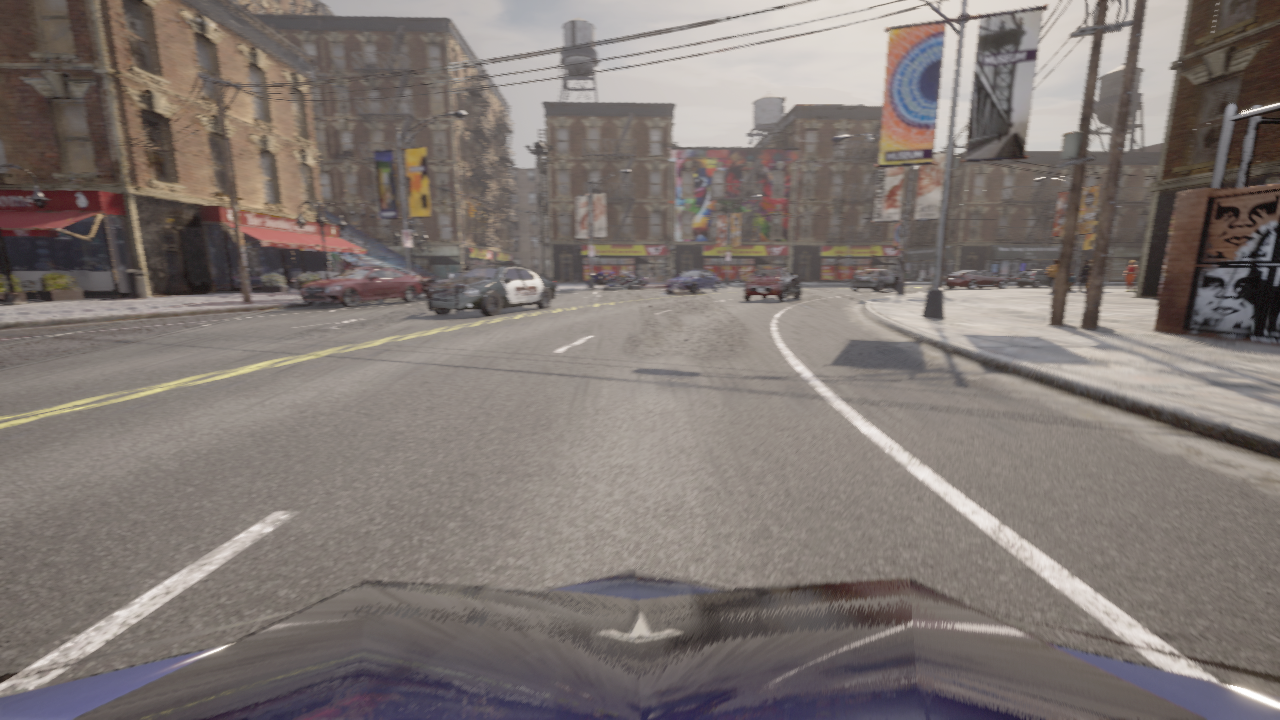cyclist: (0, 569, 1279, 719), (427, 263, 556, 316), (301, 267, 422, 307), (743, 267, 801, 302), (665, 269, 720, 293), (945, 270, 1007, 289), (420, 272, 466, 296), (851, 269, 899, 291), (1016, 269, 1073, 287), (587, 271, 615, 286), (620, 272, 647, 286), (613, 271, 632, 286)
pedestrian: (1046, 259, 1058, 293), (1124, 260, 1137, 291), (1078, 260, 1090, 292), (1067, 273, 1075, 291), (1087, 261, 1091, 285), (464, 261, 470, 271)
